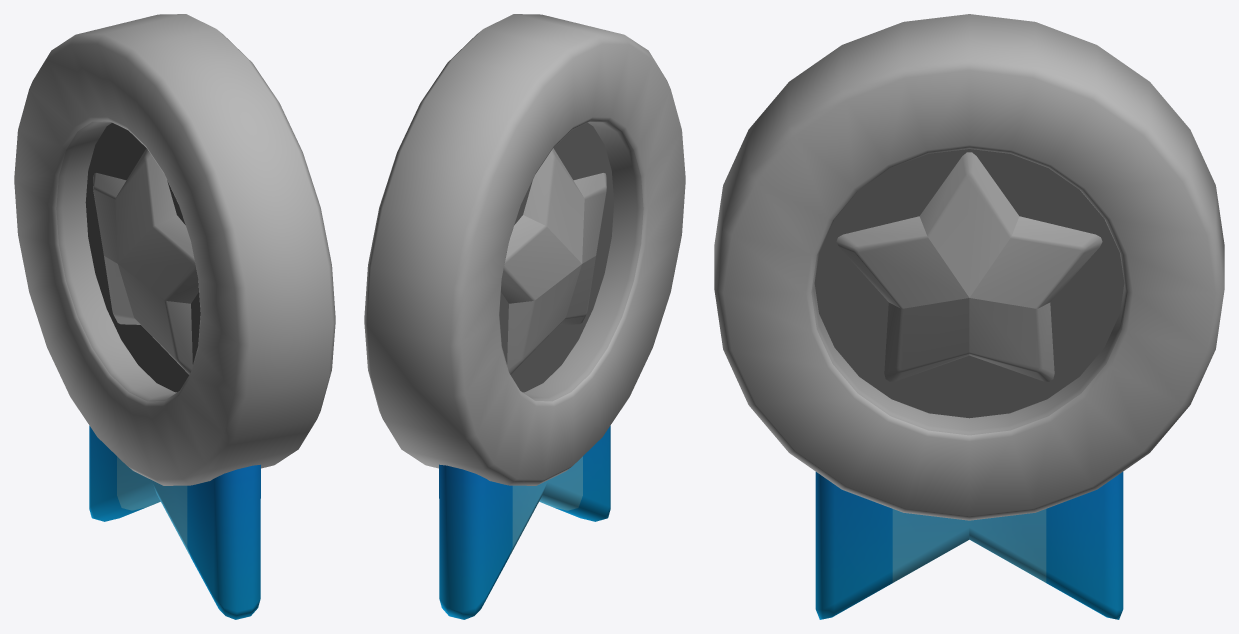
The model's file is Coin_V3_00.fbx.
3 views of the same model, side by side, from view 1: azimuth 30°, elevation 25°; view 2: azimuth 150°, elevation 25°; view 3: azimuth 270°, elevation 25° (orthographic). The views are drawn at different scales.
Visible parts, largest first — view 1: Coin_V3_00; view 2: Coin_V3_00; view 3: Coin_V3_00.
Part boxes in pixels (x1=…): Coin_V3_00: x1=14, y1=14, x2=335, y2=619; Coin_V3_00: x1=364, y1=14, x2=685, y2=619; Coin_V3_00: x1=714, y1=14, x2=1224, y2=619.
Bounding box in the file's own units: 12.19 × 53.92 × 43.
